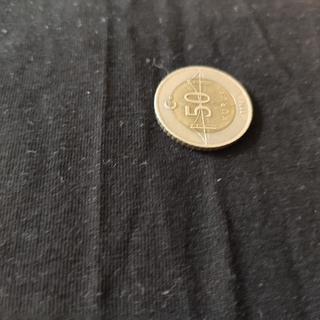50KURUS: (152, 63, 254, 153)
